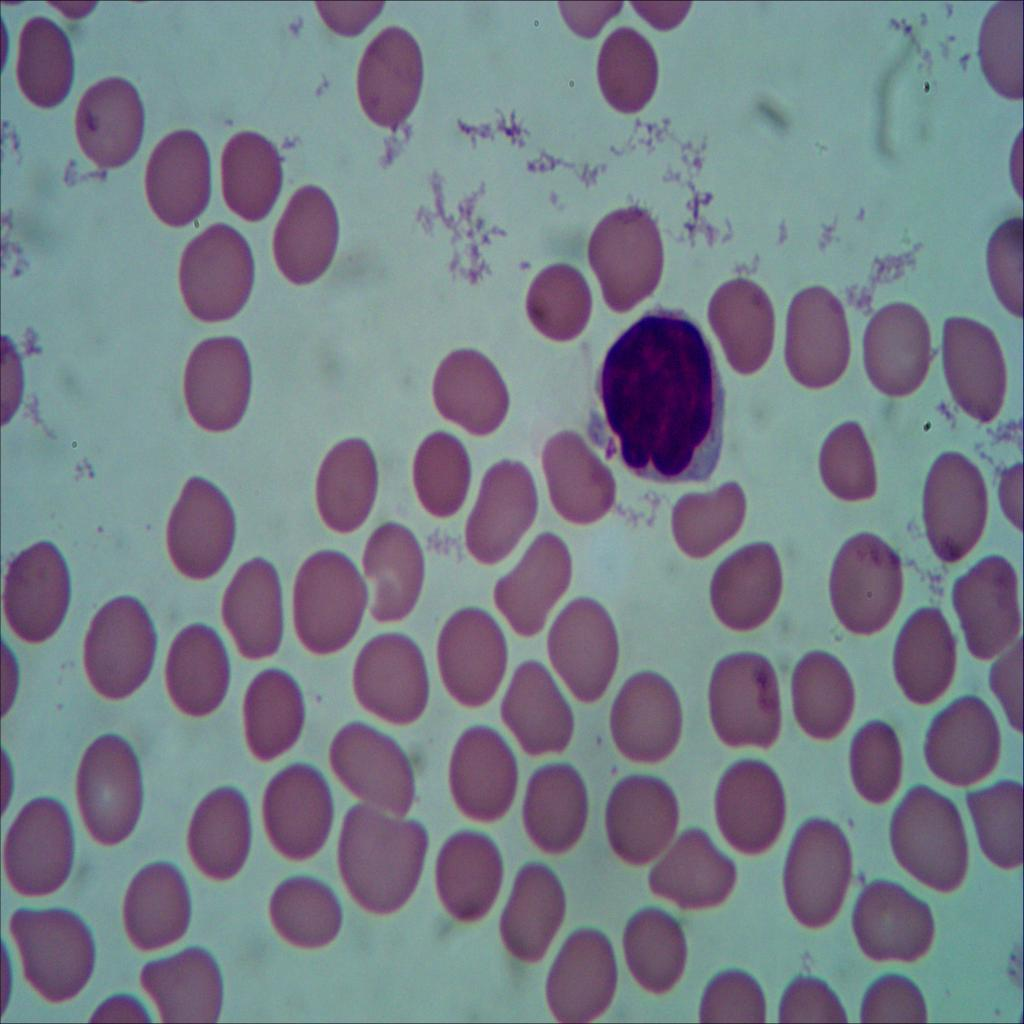Eritrosit: (335, 798, 430, 930), (888, 778, 969, 902), (586, 194, 669, 312), (912, 441, 990, 563), (0, 539, 82, 652), (540, 419, 625, 528), (944, 545, 1020, 666), (495, 525, 574, 641), (458, 455, 540, 566), (291, 539, 365, 661), (780, 818, 857, 934), (6, 910, 100, 1004), (542, 585, 618, 701), (934, 310, 1010, 426), (434, 603, 510, 718), (78, 592, 157, 702), (178, 325, 254, 439), (350, 26, 426, 140), (858, 286, 937, 394), (710, 752, 790, 858), (328, 717, 420, 809), (846, 877, 940, 967), (158, 476, 237, 583), (600, 769, 681, 872), (705, 650, 786, 753), (76, 718, 140, 848), (266, 182, 341, 292), (829, 530, 906, 637), (446, 716, 520, 824), (135, 940, 229, 1024), (498, 658, 575, 760), (161, 617, 235, 723), (649, 823, 738, 910), (117, 853, 196, 950), (663, 472, 748, 562), (259, 761, 335, 861), (520, 250, 599, 346), (353, 622, 428, 723), (520, 756, 590, 863), (6, 793, 78, 897), (543, 922, 616, 1024), (310, 430, 380, 536), (883, 601, 957, 701), (780, 282, 850, 387), (707, 270, 774, 379), (434, 342, 510, 438), (704, 539, 784, 630), (180, 225, 256, 320), (586, 24, 666, 114), (612, 671, 685, 769), (788, 646, 858, 748), (493, 858, 562, 961), (144, 124, 212, 228), (434, 825, 503, 926), (211, 127, 283, 223), (218, 552, 282, 660), (617, 899, 686, 999), (74, 73, 144, 170), (360, 517, 424, 622), (928, 698, 1004, 785), (188, 778, 250, 884), (241, 671, 306, 769), (408, 428, 474, 523), (12, 16, 76, 113), (817, 414, 882, 509), (271, 872, 348, 952), (966, 774, 1024, 877), (849, 717, 911, 810)
Limfoblast: (581, 303, 728, 492)
